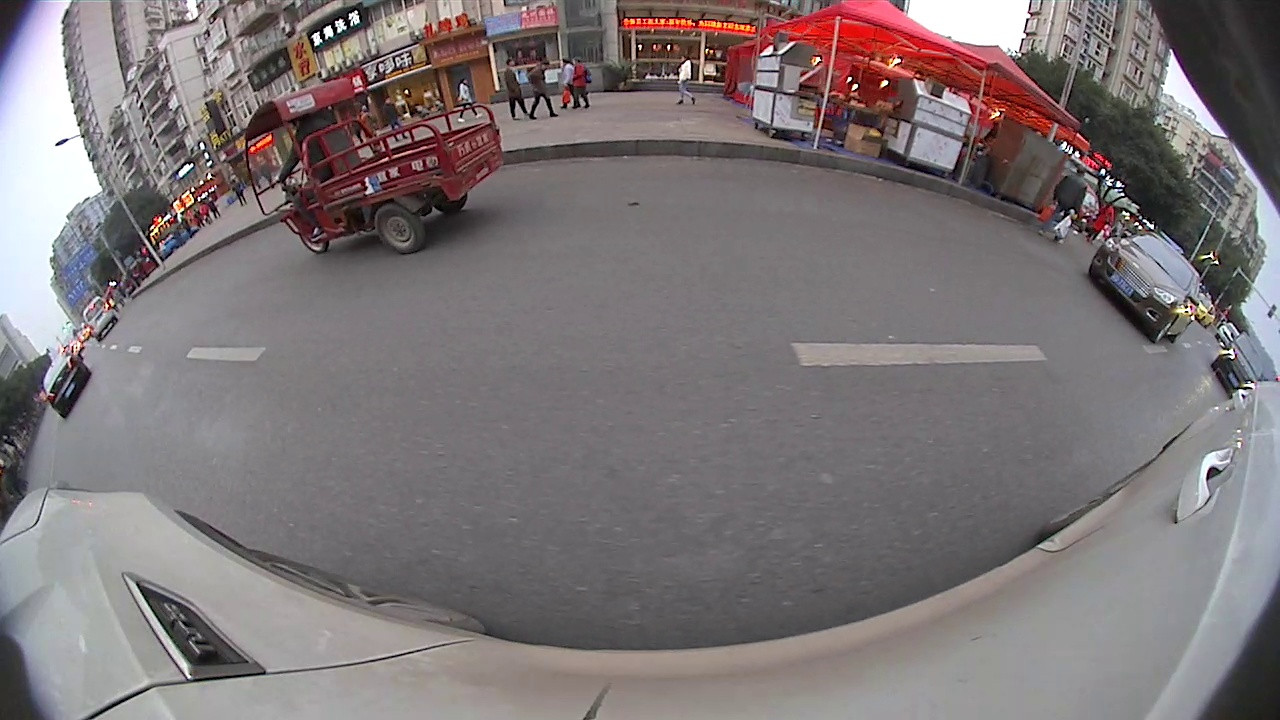car: (1084, 229, 1205, 345), (37, 347, 96, 423), (1211, 327, 1269, 394), (78, 288, 123, 345)
person: (1058, 159, 1092, 249), (497, 55, 523, 123), (527, 56, 549, 121), (677, 51, 694, 106)
rear: (372, 200, 425, 260)
rider: (243, 78, 505, 257)
